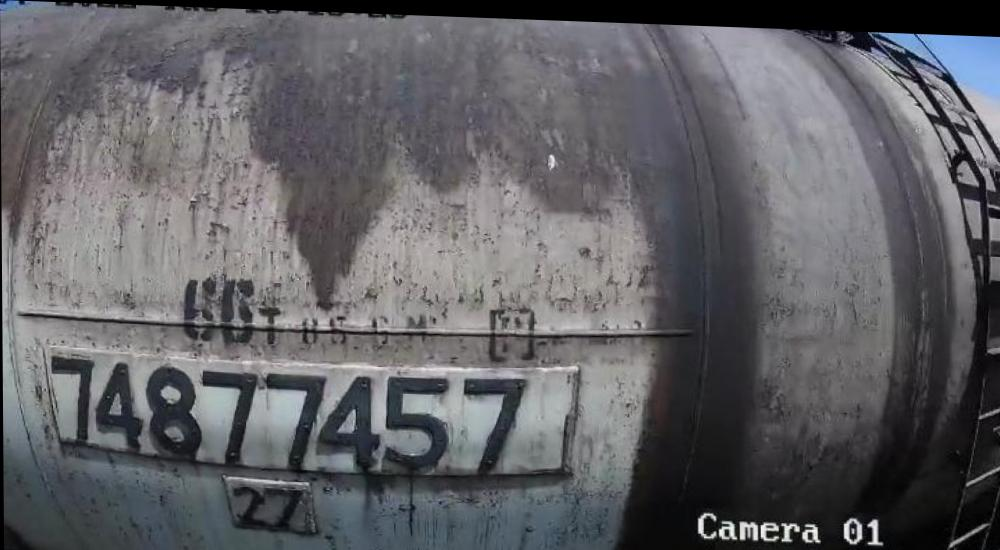Wagon-number: (45, 344, 532, 478)
